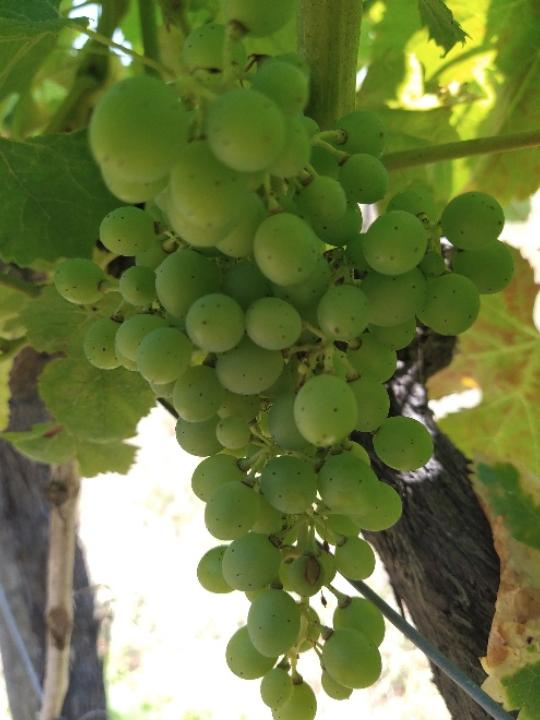grape: (50, 0, 517, 720)
